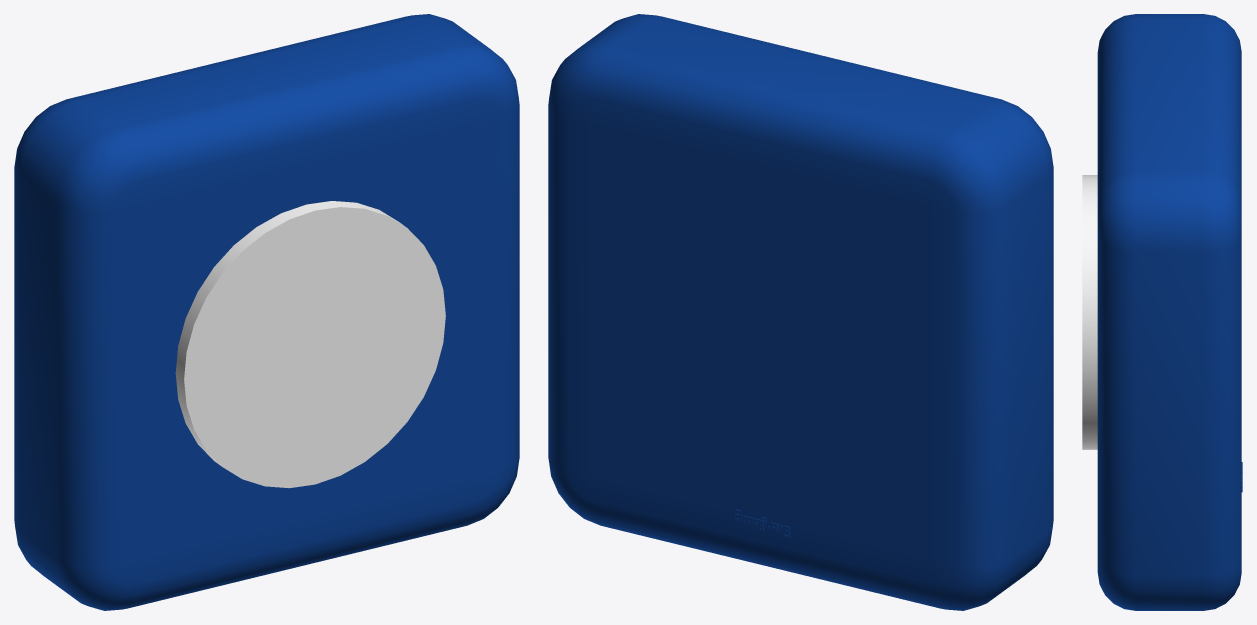
Rendered from record_button.fbx.
3 views of the same model, side by side, from view 1: azimuth 30°, elevation 25°; view 2: azimuth 150°, elevation 25°; view 3: azimuth 270°, elevation 25° (orthographic). The views are drawn at different scales.
Visible parts, largest first — view 1: Cube.6432; view 2: Cube.6432; view 3: Cube.6432.
Part boxes in pixels (box(x1,y1,x2,y2)): Cube.6432: box(14, 14, 519, 610); Cube.6432: box(548, 14, 1053, 610); Cube.6432: box(1082, 14, 1242, 610).
Bounding box in the file's own units: 220 × 220 × 73.37.
Materials: 1 (1 with a texture image).
